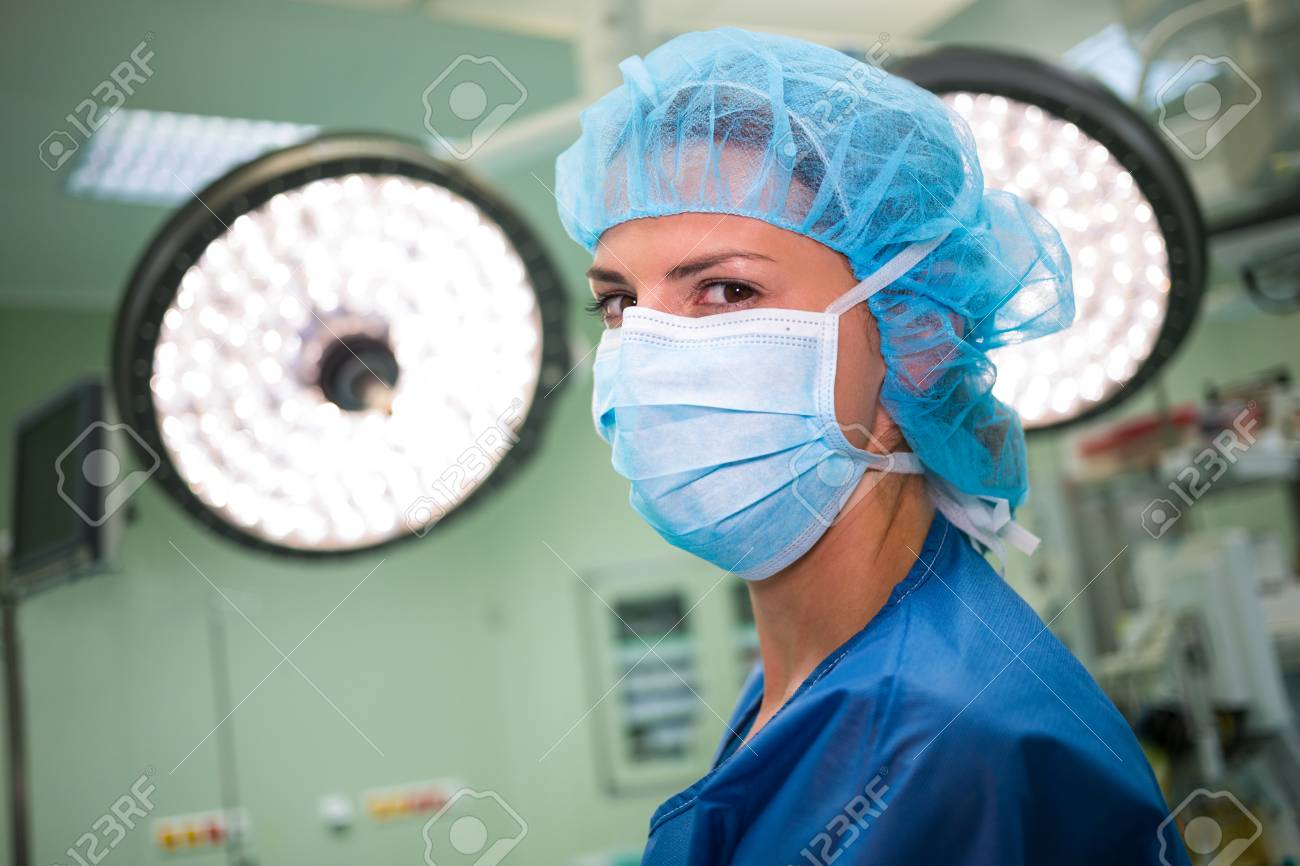mask: (575, 332, 867, 577)
